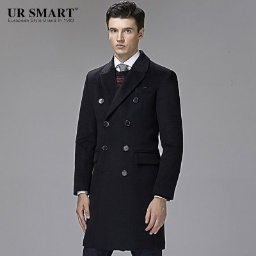face: (104, 1, 145, 54)
